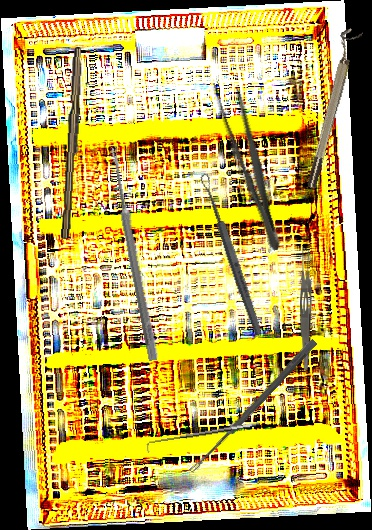Dressing Forceps: (208, 75, 292, 255), (298, 246, 315, 371)
Fixation Ring: (297, 26, 364, 190)
Hook Surgical: (143, 420, 262, 454)
Scalpel Handle: (60, 46, 86, 240)
Surgical Spoon: (188, 337, 318, 476), (107, 145, 160, 362), (198, 171, 265, 338)
